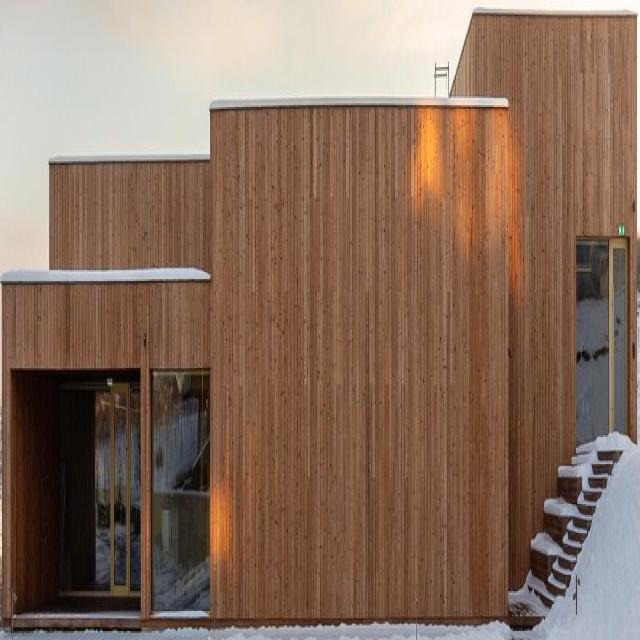door: (110, 378, 129, 602), (609, 230, 626, 438)
window: (59, 388, 141, 597), (152, 375, 210, 613), (576, 245, 608, 455)
